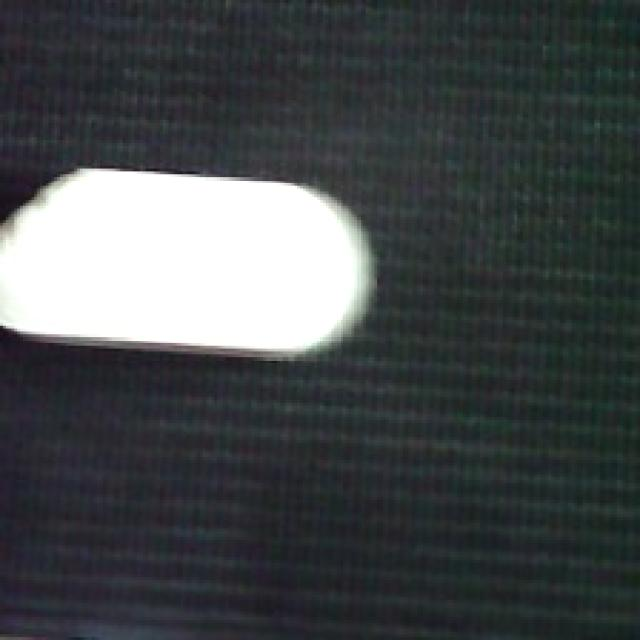defected: (0, 160, 380, 360)
